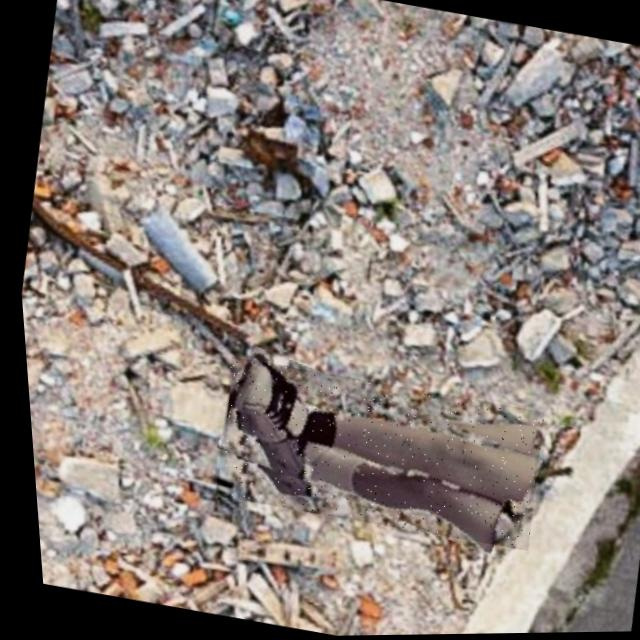Person in Rubble: (198, 354, 544, 555)
